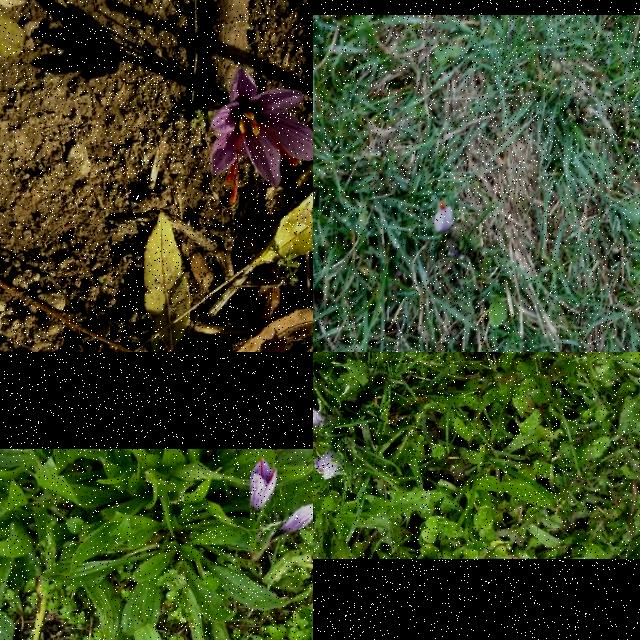flower: (212, 70, 313, 202), (249, 458, 279, 512), (281, 500, 313, 533), (314, 450, 340, 480), (434, 201, 454, 233), (313, 405, 326, 430)
